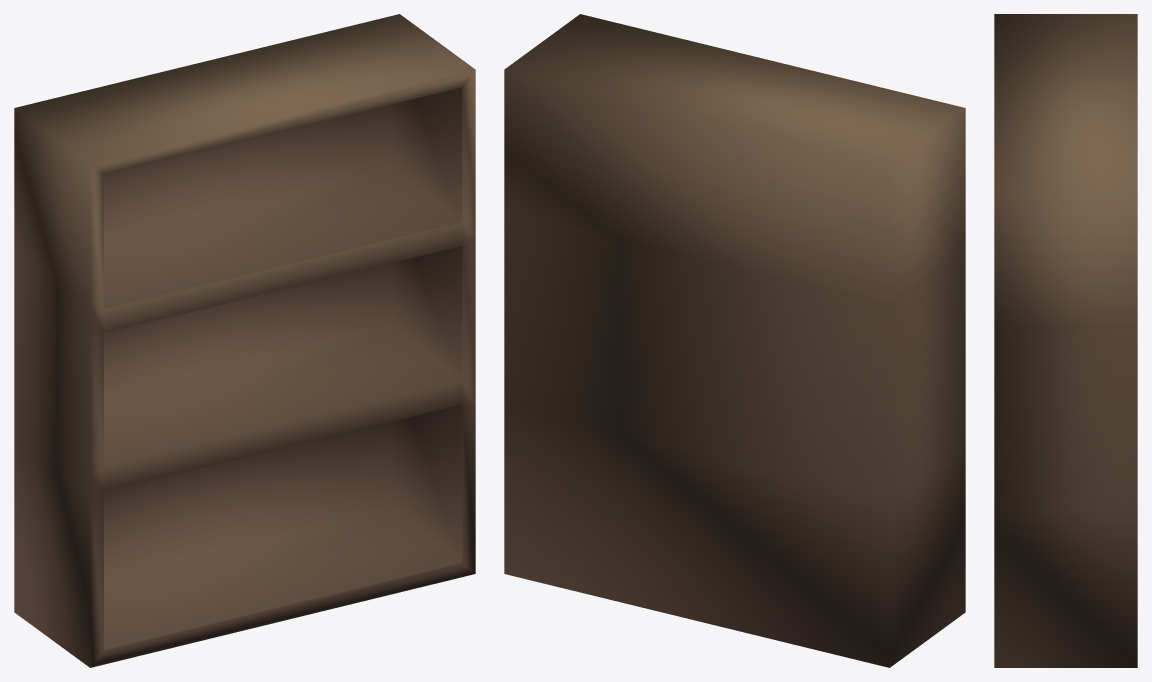
File: Shelf.fbx
3 renders of one model, left to right at view 1: azimuth 30°, elevation 25°; view 2: azimuth 150°, elevation 25°; view 3: azimuth 270°, elevation 25°, orthographic. The views are drawn at different scales.
Parts seen in each view (by area): view 1: Shelf; view 2: Shelf; view 3: Shelf.
Boxes of the visible parts, x1,y1,x2,y2 form: Shelf: (14,14,475,667); Shelf: (504,14,965,667); Shelf: (994,14,1137,667).
Size of the model in its own units: 4 by 1.37 by 5.
Materials: 1 (1 with a texture image).
